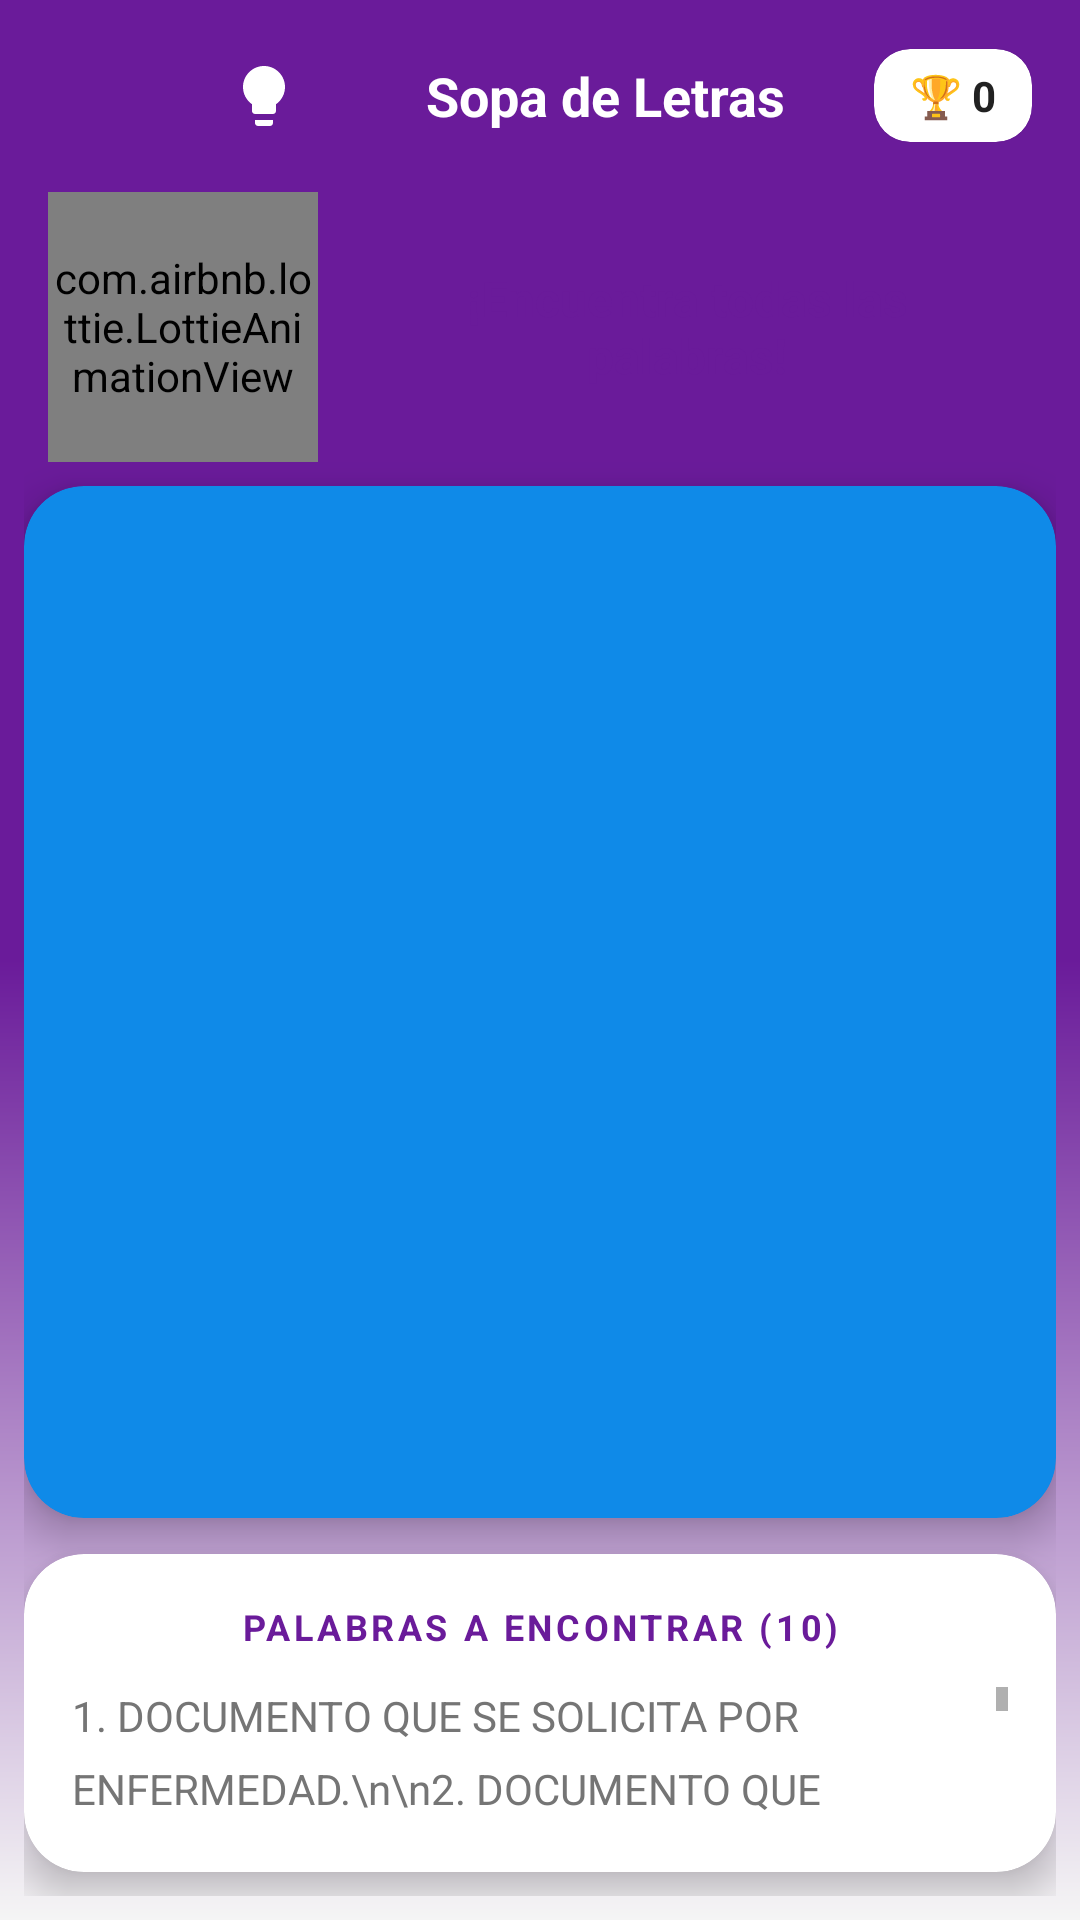

Locate icon controls on the screen. Image size 1080×1920, boxes as BBox(x1, y1, x2, y2).
foco: BBox(243, 66, 285, 126)
